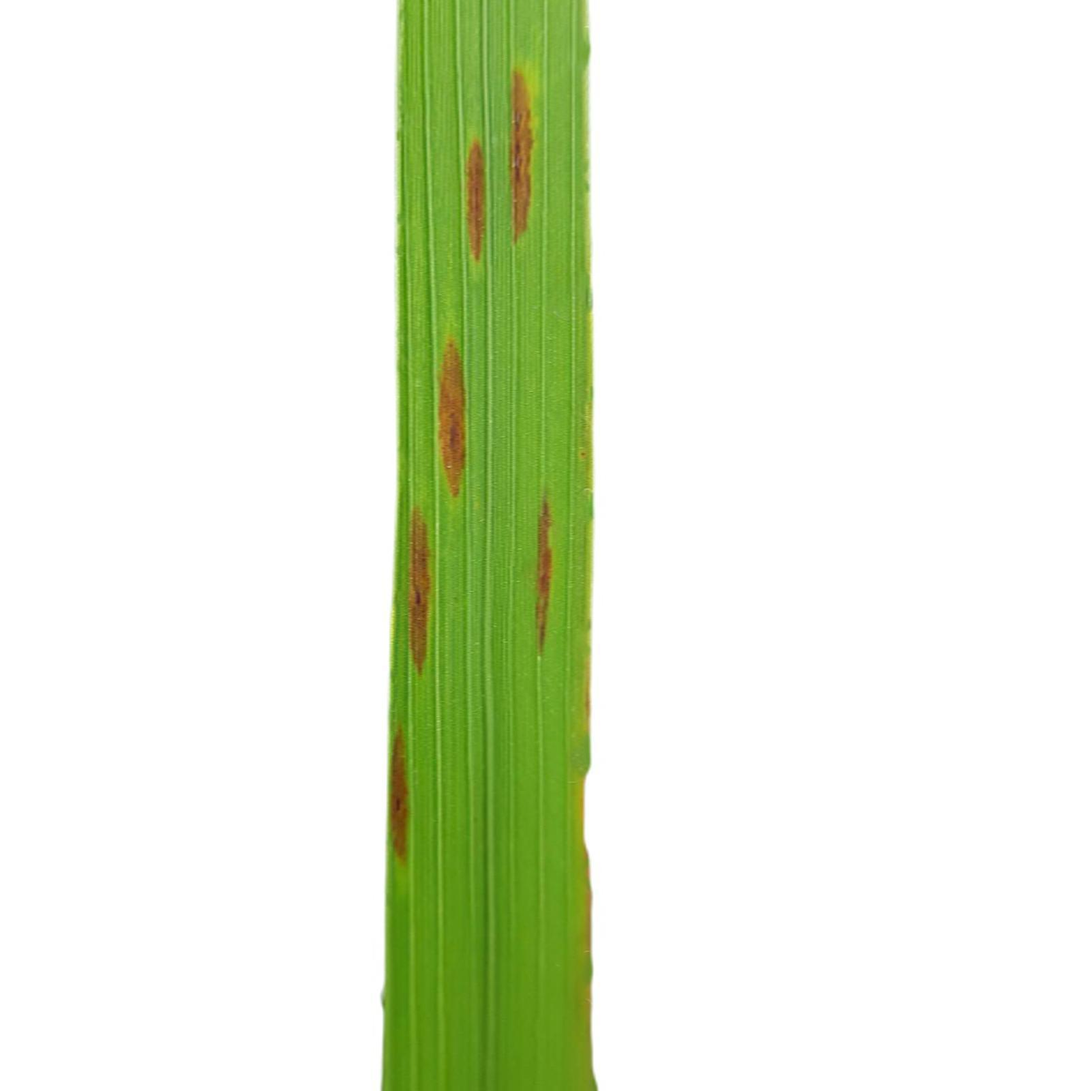LEAF: (381, 0, 599, 1090)
NBS: (437, 335, 467, 503), (407, 500, 435, 677), (512, 68, 534, 245), (535, 491, 557, 659), (463, 135, 487, 263), (390, 721, 410, 869)
